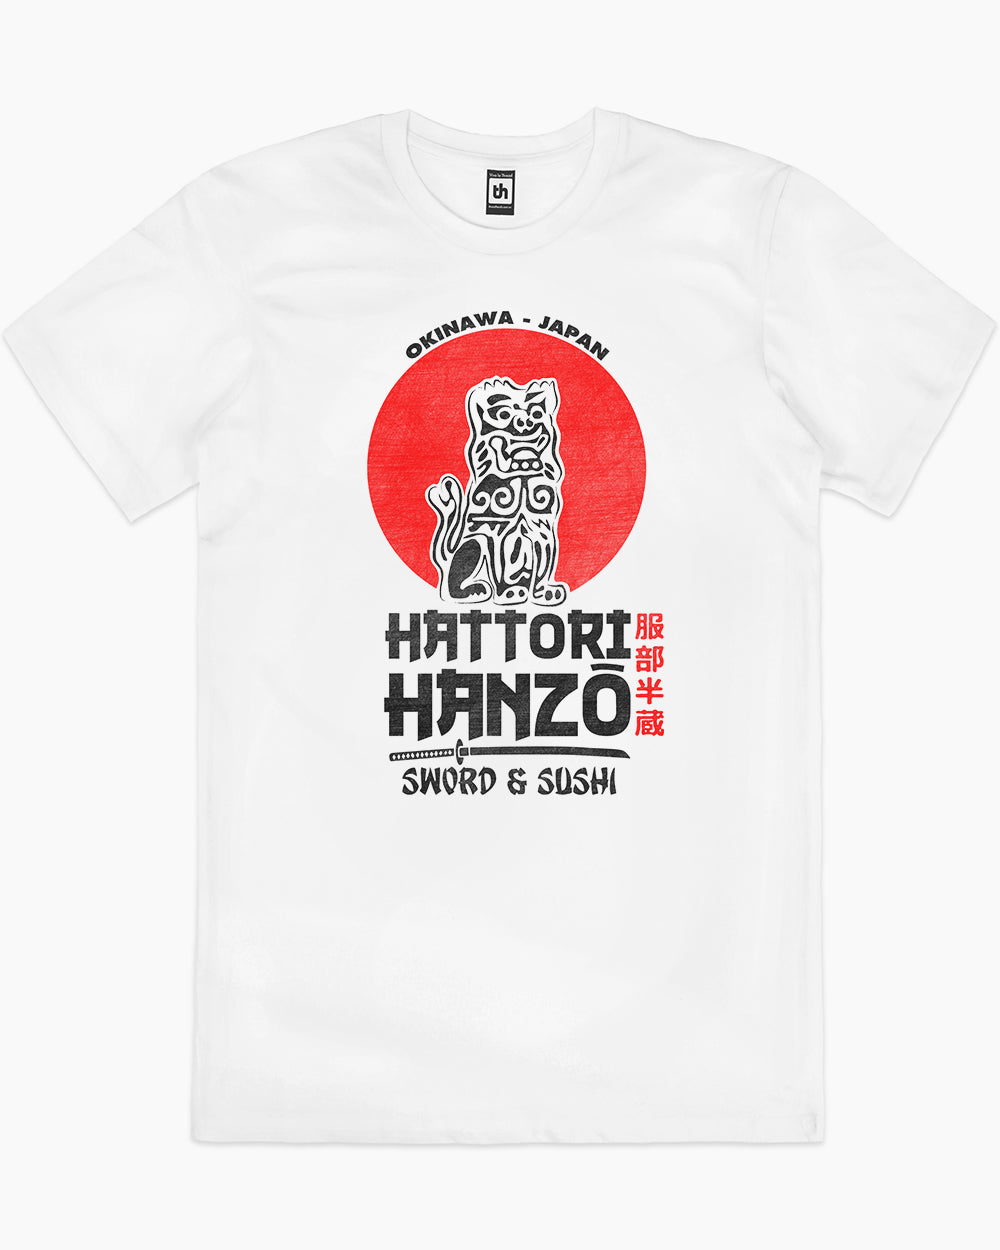design: (362, 305, 669, 802)
